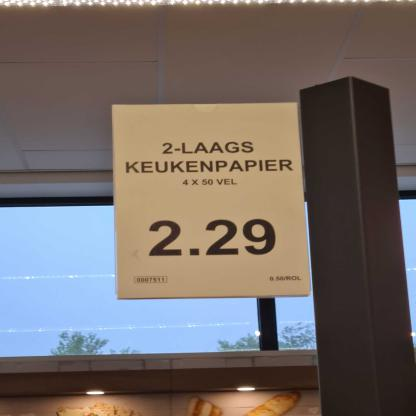prtg: (112, 102, 313, 301)
